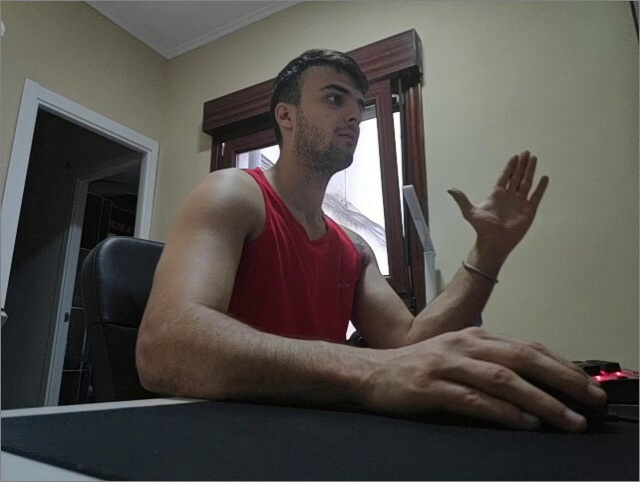Palm: (447, 148, 550, 246)
